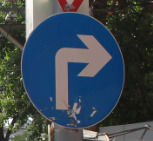right_turn: (21, 13, 125, 129)
